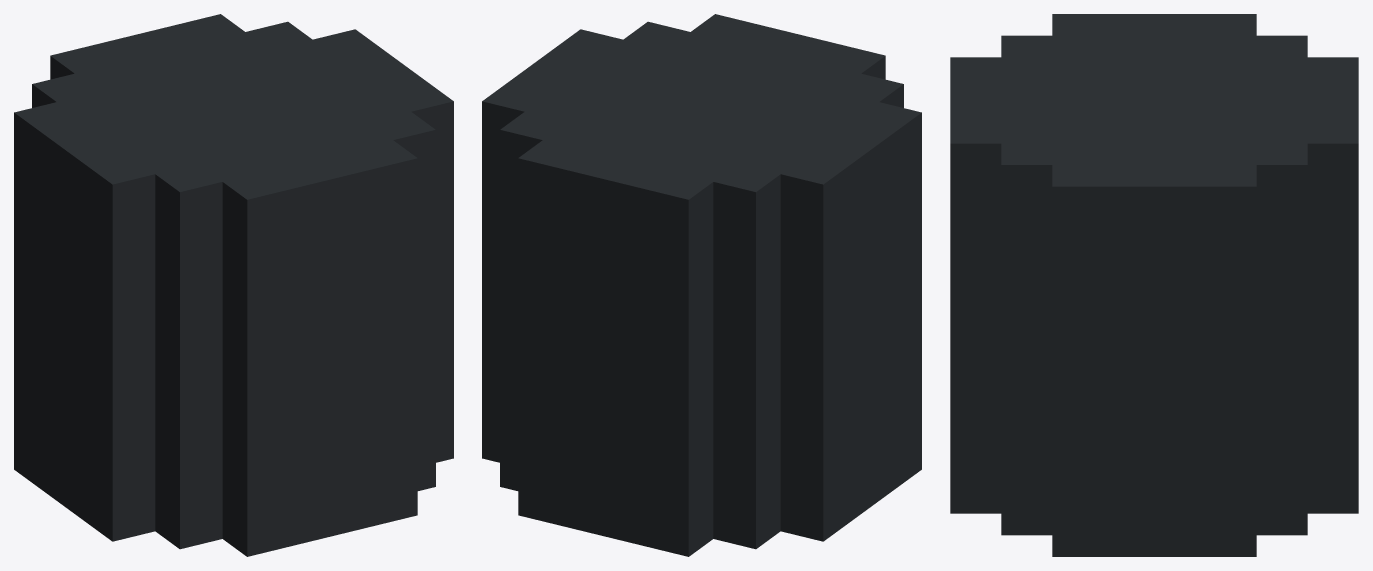
The model's file is dark-trunk-block.glb.
3 renders of one model, left to right at view 1: azimuth 30°, elevation 25°; view 2: azimuth 150°, elevation 25°; view 3: azimuth 270°, elevation 25°, orthographic. The views are drawn at different scales.
Visible parts, largest first — view 1: generated(Clone); view 2: generated(Clone); view 3: generated(Clone).
Part boxes in pixels (left/top/right/bottom): generated(Clone): left=14, top=14, right=453, bottom=556; generated(Clone): left=482, top=14, right=921, bottom=556; generated(Clone): left=950, top=14, right=1358, bottom=556.
Bounding box in the file's own units: 8 × 8 × 8.
Materials: 1 (1 with a texture image).
